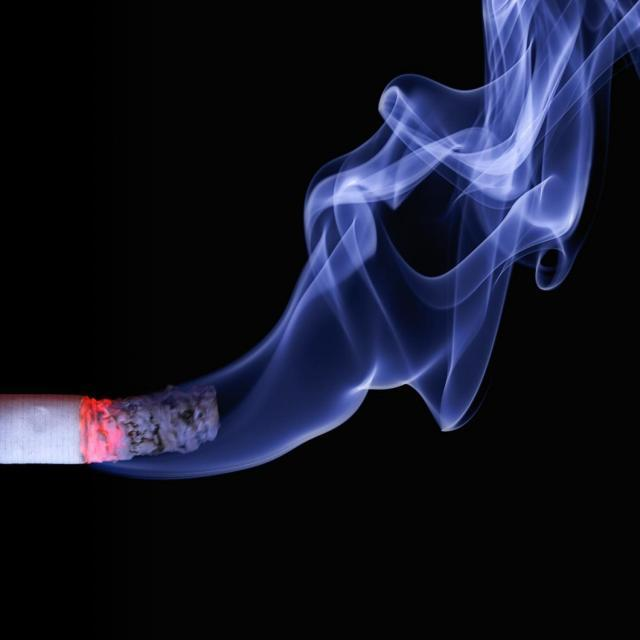cigarette: (0, 381, 223, 481)
